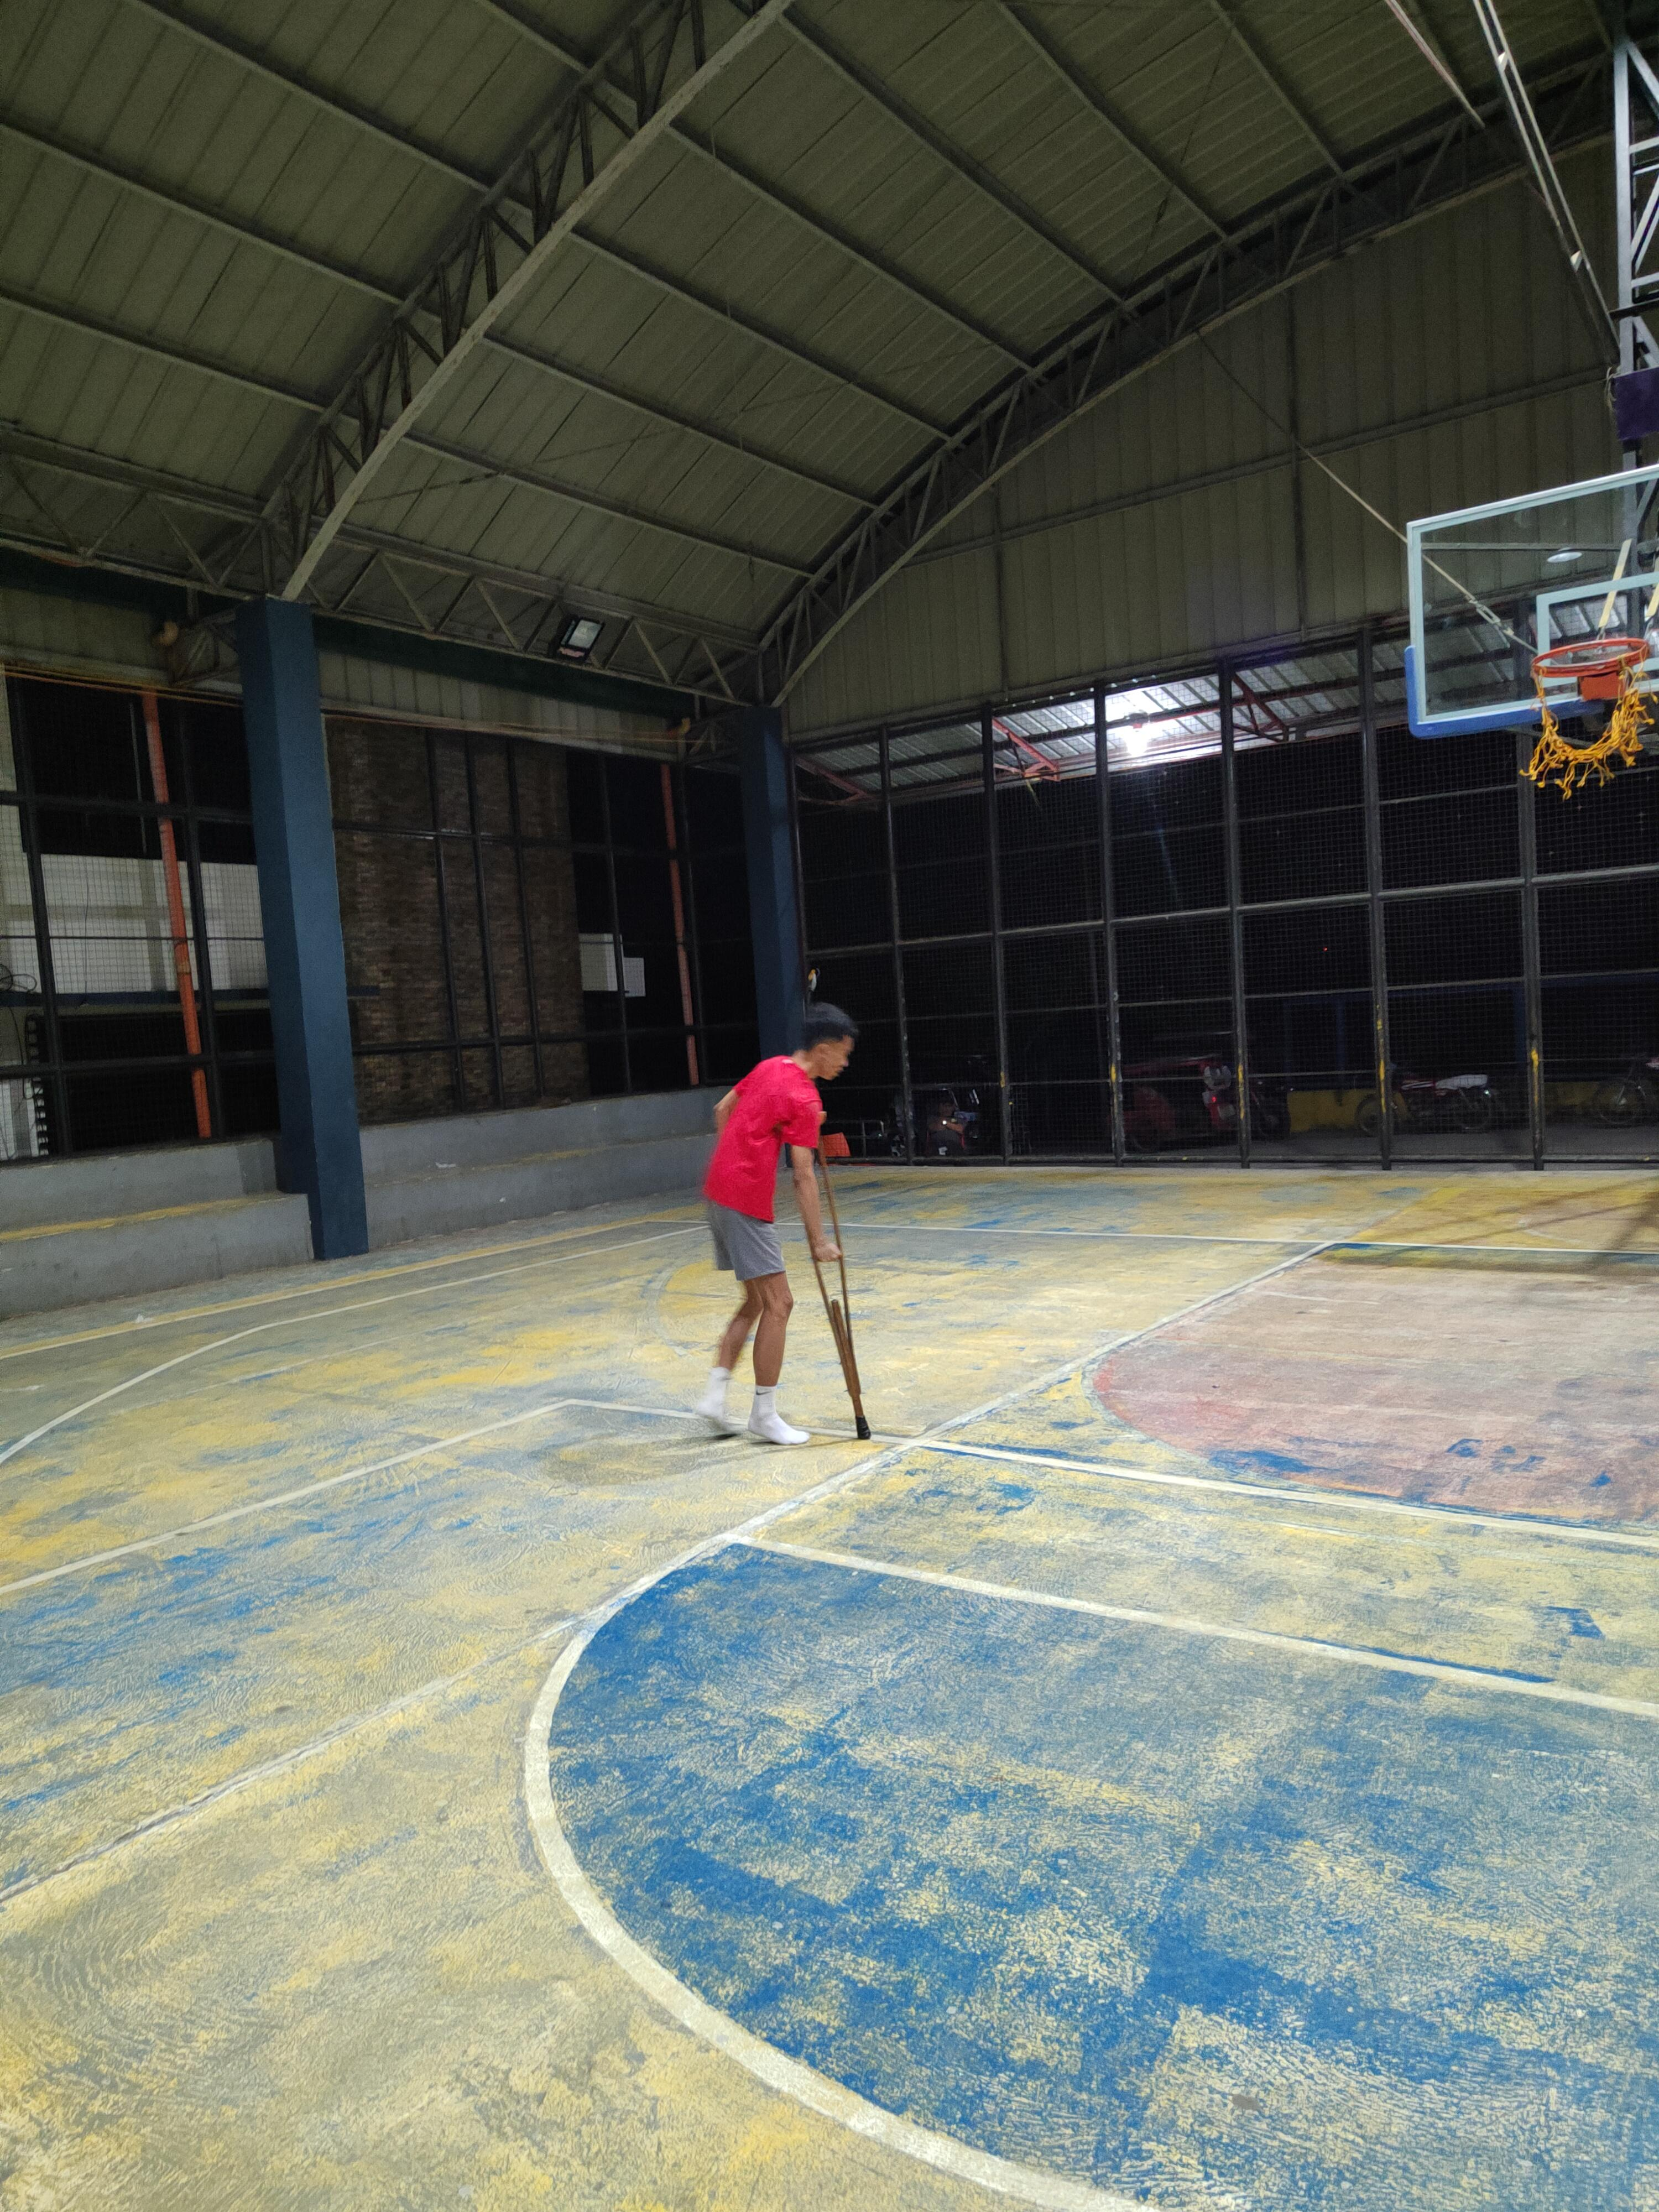crutches: (687, 986, 885, 1456)
